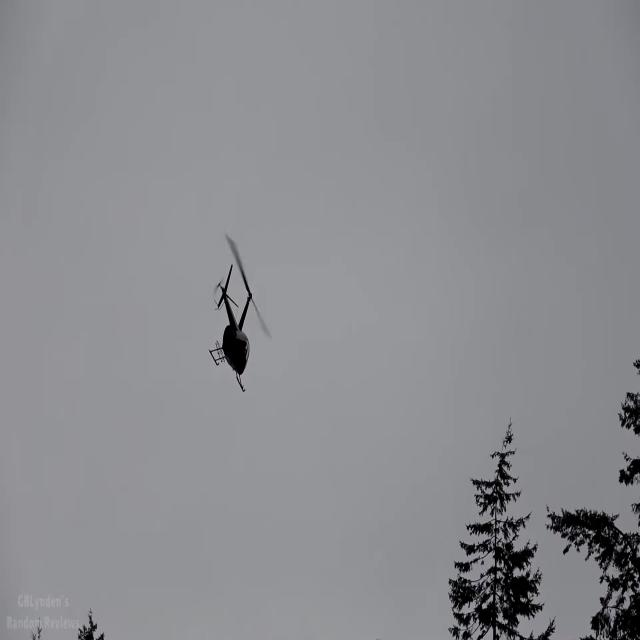CIV_HELO: (208, 263, 252, 394)
